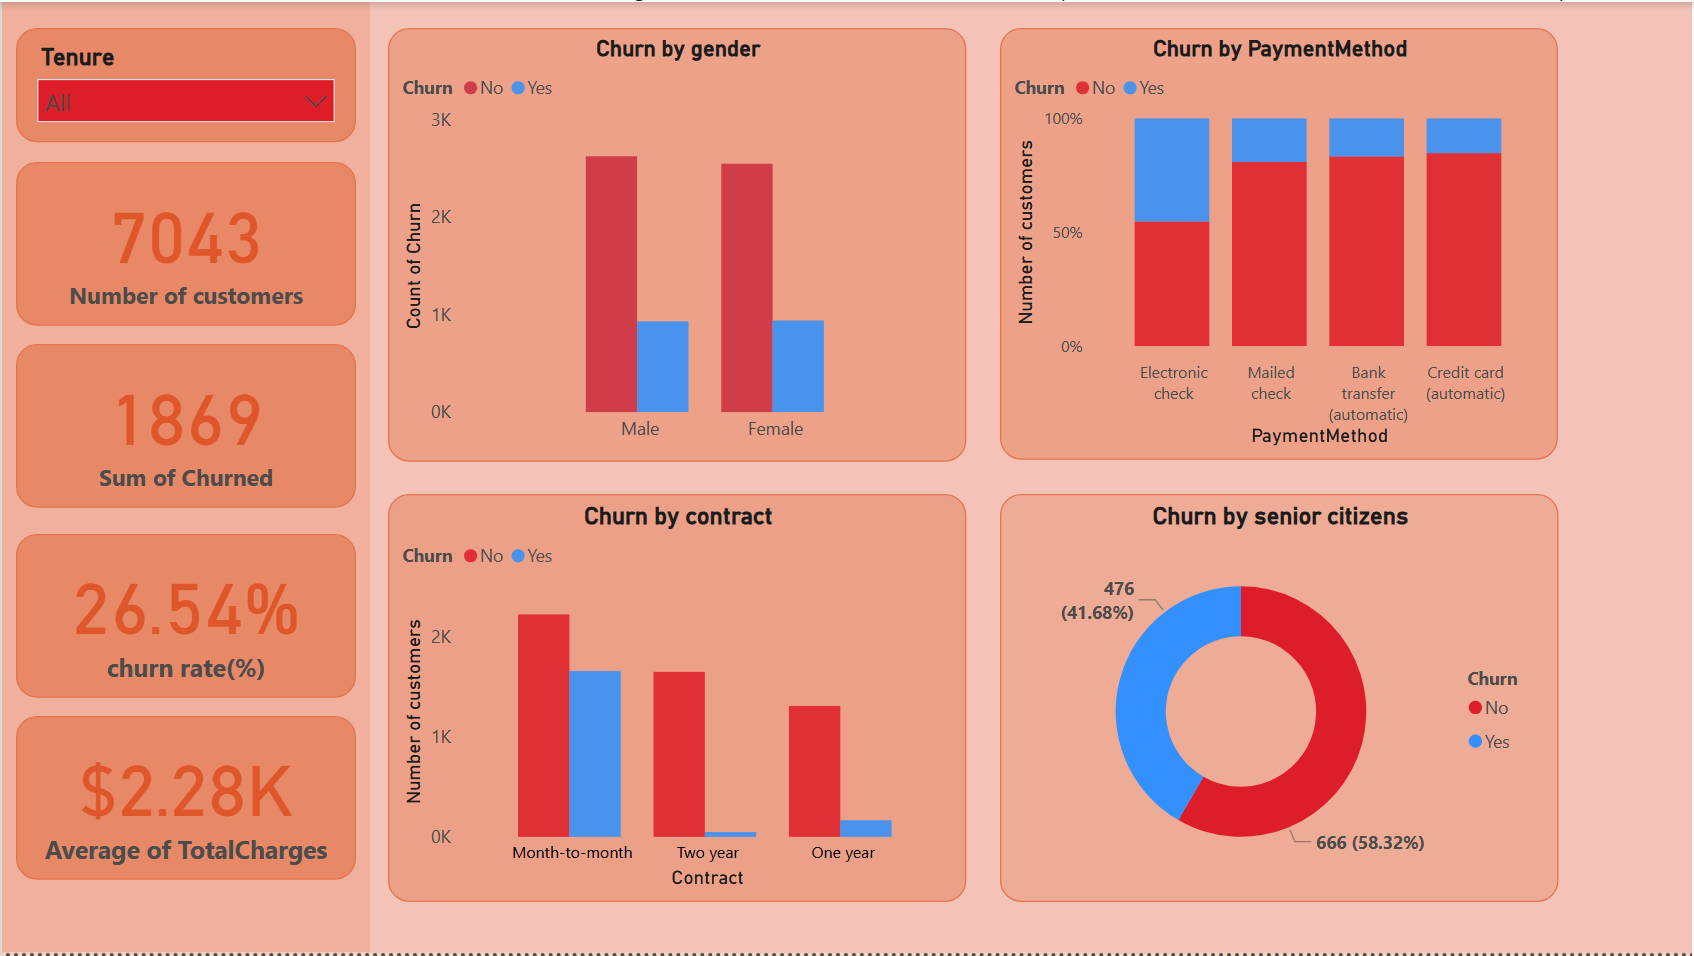

The page's visual inventory and layout, read from the dashboard file:
{"tool":"powerbi","page":{"name":"Duplicate of Page 1","canvas":[1280,720],"ordinal":0},"visuals":[{"type":"shape","box":[0,0,278.7,719.5],"z":0},{"type":"card","fields":{"Values":["WA_Fn-UseC_-Telco-Customer-Churn.Number of customers"]},"box":[10.6,121.2,257.5,124.2],"z":1000},{"type":"card","fields":{"Values":["Sum(WA_Fn-UseC_-Telco-Customer-Churn.Churned)"]},"box":[10.6,259,257.5,124.2],"z":2000},{"type":"card","fields":{"Values":["WA_Fn-UseC_-Telco-Customer-Churn.churn rate(%)"]},"box":[10.6,402.9,257.5,124.2],"z":2001},{"type":"clusteredColumnChart","title":"Churn by gender","fields":{"Category":["WA_Fn-UseC_-Telco-Customer-Churn.gender"],"Y":["CountNonNull(WA_Fn-UseC_-Telco-Customer-Churn.Churn)"],"Series":["WA_Fn-UseC_-Telco-Customer-Churn.Churn"]},"box":[292.4,19.7,437.8,328.7],"z":2002},{"type":"clusteredColumnChart","title":"Churn by contract","fields":{"Category":["WA_Fn-UseC_-Telco-Customer-Churn.Contract"],"Y":["WA_Fn-UseC_-Telco-Customer-Churn.Number of customers"],"Series":["WA_Fn-UseC_-Telco-Customer-Churn.Churn"]},"box":[292.4,372.6,437.8,309],"z":2003},{"type":"hundredPercentStackedColumnChart","title":"Churn by PaymentMethod ","fields":{"Category":["WA_Fn-UseC_-Telco-Customer-Churn.PaymentMethod"],"Y":["WA_Fn-UseC_-Telco-Customer-Churn.Number of customers"],"Series":["WA_Fn-UseC_-Telco-Customer-Churn.Churn"]},"box":[755.9,19.7,422.6,327.2],"z":2004},{"type":"slicer","fields":{"Values":["WA_Fn-UseC_-Telco-Customer-Churn.tenure","WA_Fn-UseC_-Telco-Customer-Churn.Churn"]},"box":[10.6,19.7,257.5,86.3],"z":2005},{"type":"donutChart","title":"Churn by senior citizens","fields":{"Category":["WA_Fn-UseC_-Telco-Customer-Churn.Churn"],"Y":["Sum(WA_Fn-UseC_-Telco-Customer-Churn.SeniorCitizen)"]},"box":[756,373,423,309],"z":2006},{"type":"card","fields":{"Values":["Avg(WA_Fn-UseC_-Telco-Customer-Churn.TotalCharges)"]},"box":[10.6,540.8,257.5,124.2],"z":2007}]}

Visuals, with their boxes in screenshot pixels (x1, y1, x2, y2), scaled from the page's 1280x720 canvas onto the 1694x956 screenshot:
shape: (left=0, top=0, right=369, bottom=955)
card - WA_Fn-UseC_-Telco-Customer-Churn.Number of customers: (left=14, top=161, right=355, bottom=326)
card - Sum(WA_Fn-UseC_-Telco-Customer-Churn.Churned): (left=14, top=344, right=355, bottom=509)
card - WA_Fn-UseC_-Telco-Customer-Churn.churn rate(%): (left=14, top=535, right=355, bottom=700)
"Churn by gender" clusteredColumnChart: (left=387, top=26, right=966, bottom=463)
"Churn by contract" clusteredColumnChart: (left=387, top=495, right=966, bottom=905)
"Churn by PaymentMethod " hundredPercentStackedColumnChart: (left=1000, top=26, right=1560, bottom=461)
slicer - WA_Fn-UseC_-Telco-Customer-Churn.tenure x WA_Fn-UseC_-Telco-Customer-Churn.Churn: (left=14, top=26, right=355, bottom=141)
"Churn by senior citizens" donutChart: (left=1001, top=495, right=1560, bottom=906)
card - Avg(WA_Fn-UseC_-Telco-Customer-Churn.TotalCharges): (left=14, top=718, right=355, bottom=883)
